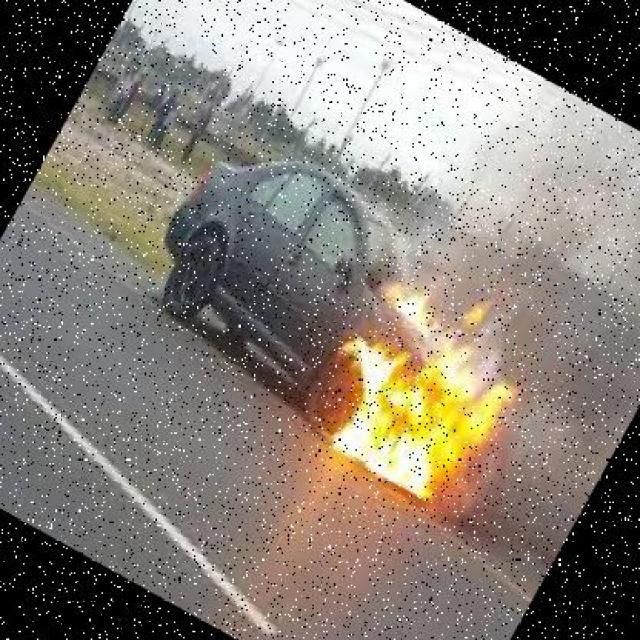fire: (276, 253, 552, 542)
